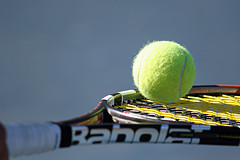tennis ball: (130, 39, 196, 104)
